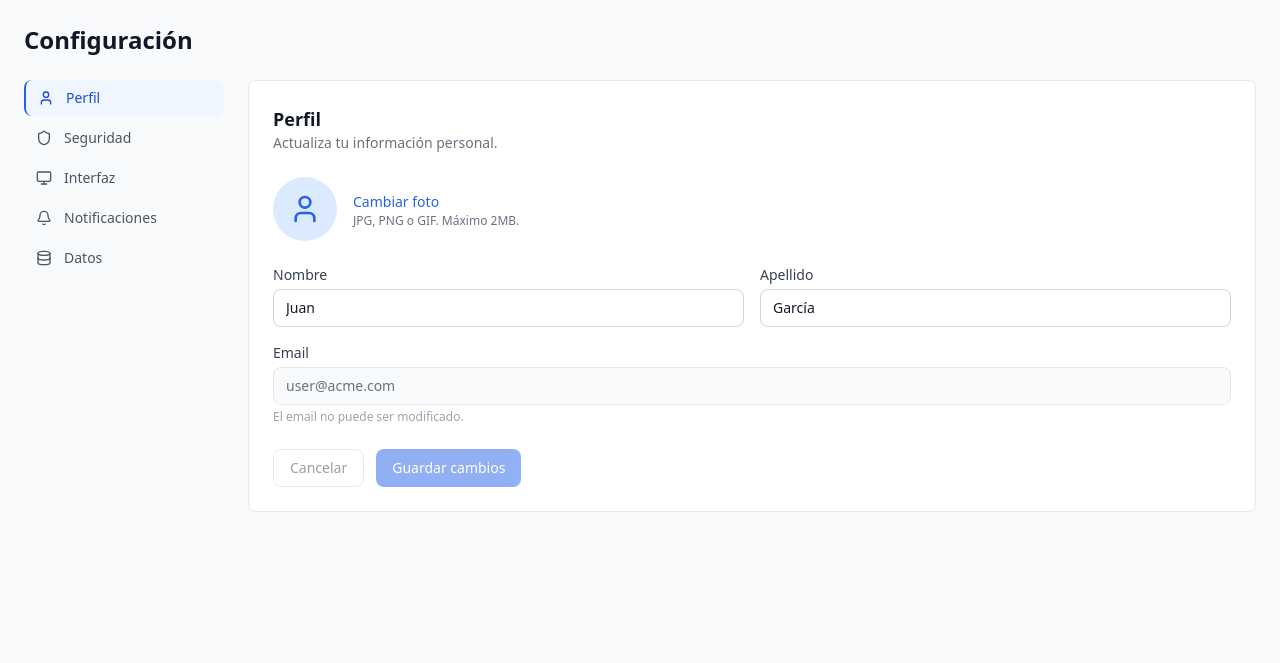
SettingsPage › shows password mismatch error
Click the button "Seguridad" at (124, 138), box [24,120,224,156]
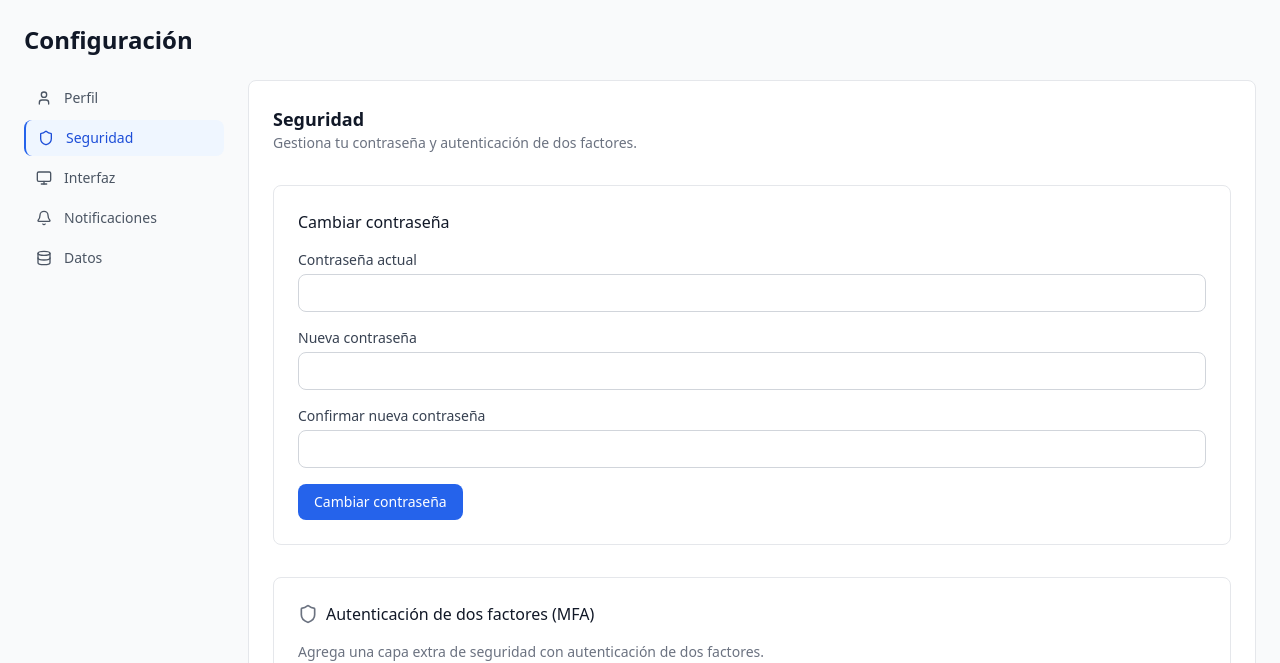
Type "old123" into the password field labelled "Contraseña actual" at (752, 293), box [298,274,1206,312]
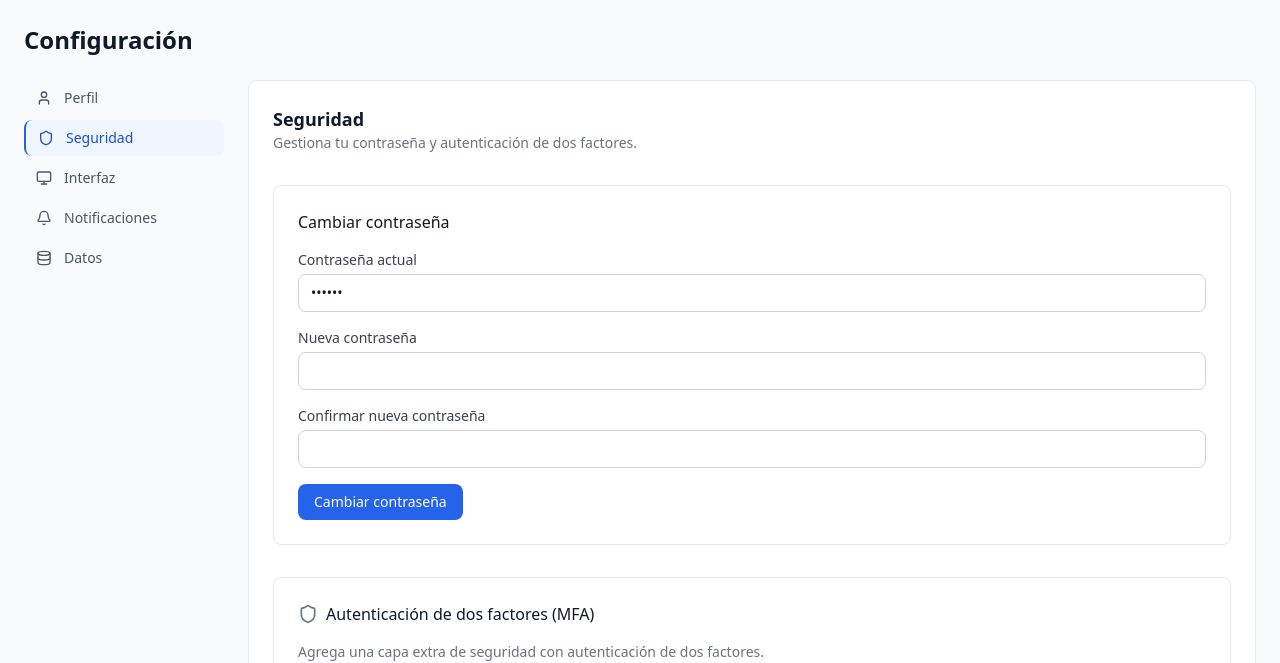
Type "newPass1!" into the password field labelled "Nueva contraseña" at (752, 371), box [298,352,1206,390]
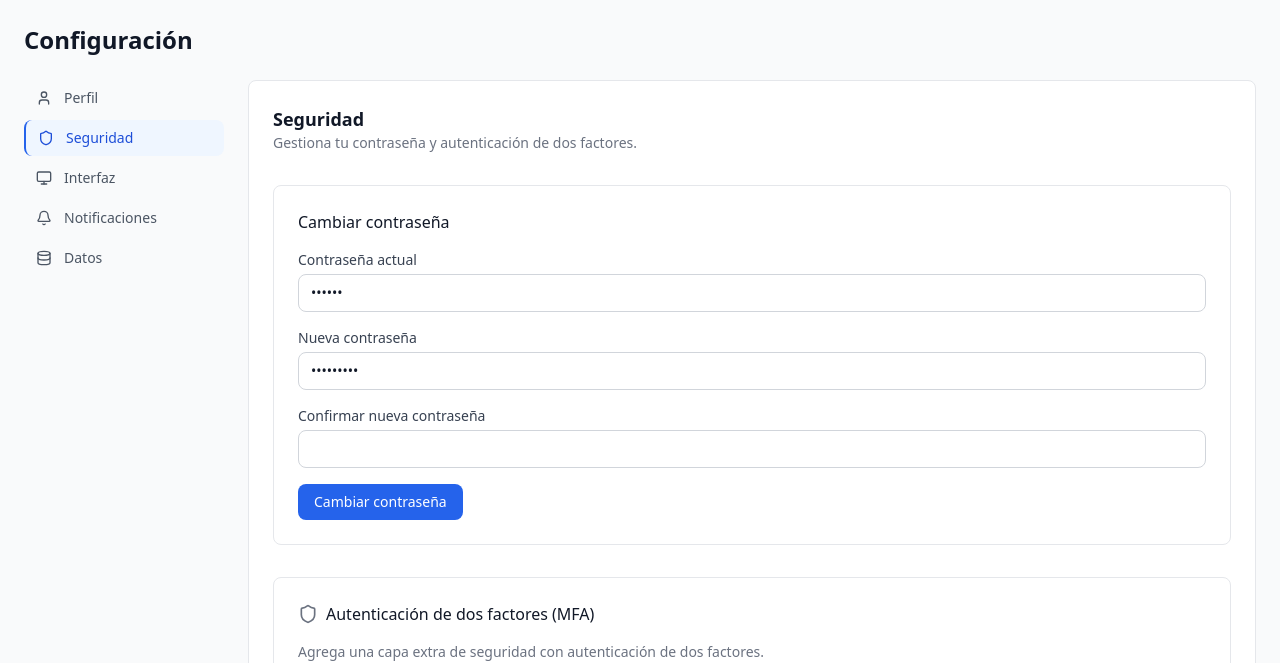
Type "DIFERENTE" into the password field labelled "Confirmar nueva contraseña" at (752, 449), box [298,430,1206,468]
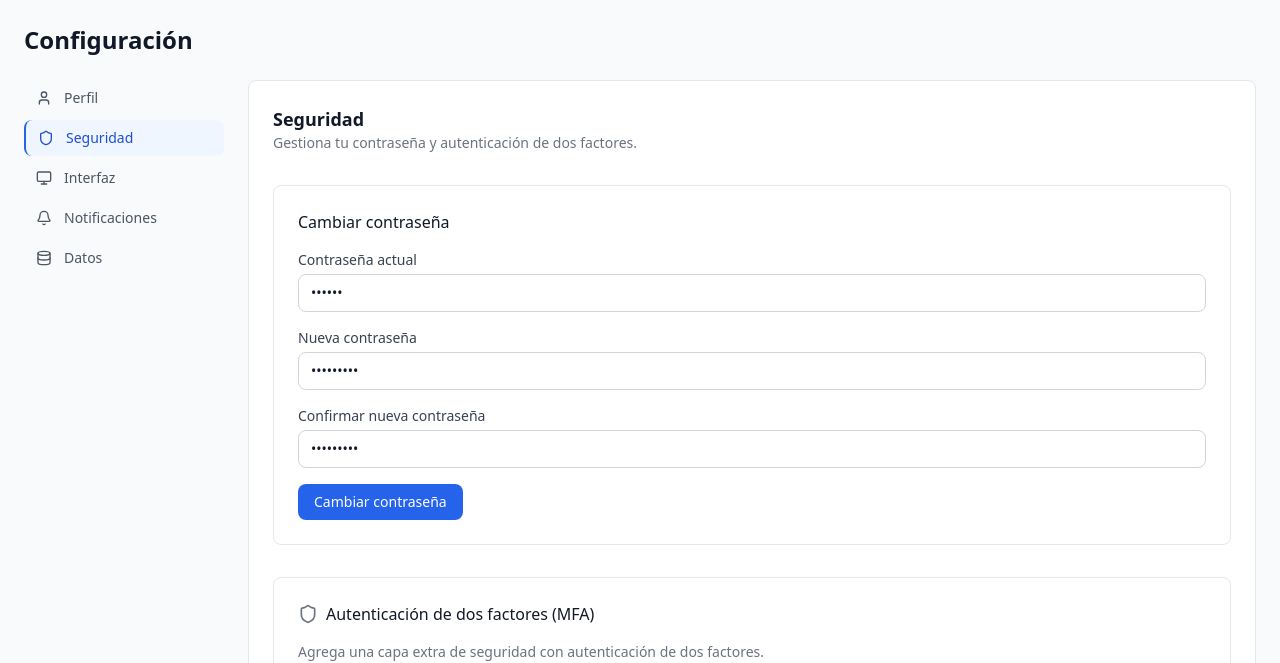
Submit the form with test id "change-password-form", box [298,250,1206,520]
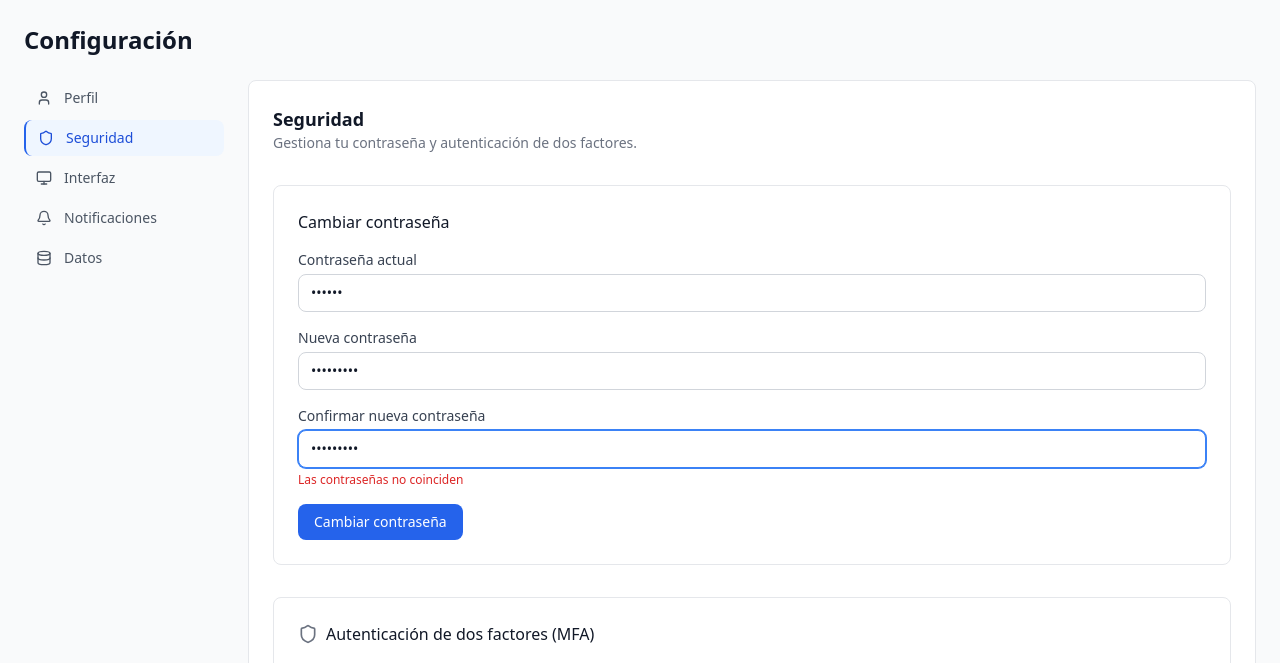
Expected: the text "Las contraseñas no coinciden" is shown, [298,471,463,488]
